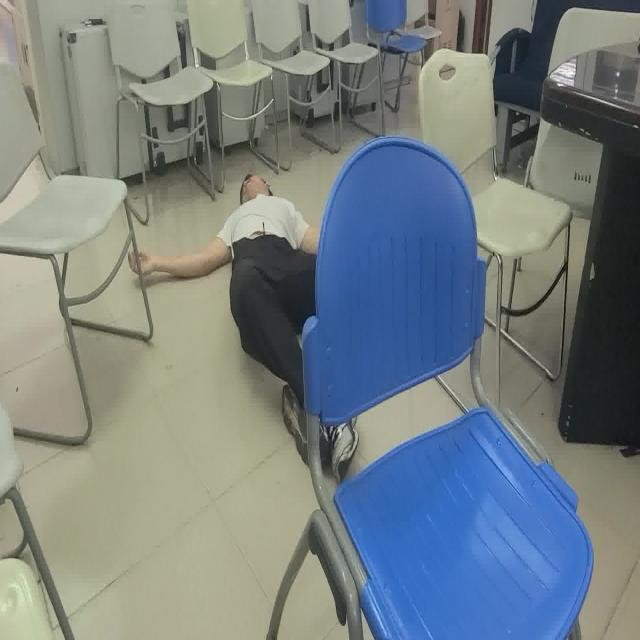Fall-Detected: (127, 167, 362, 485)
